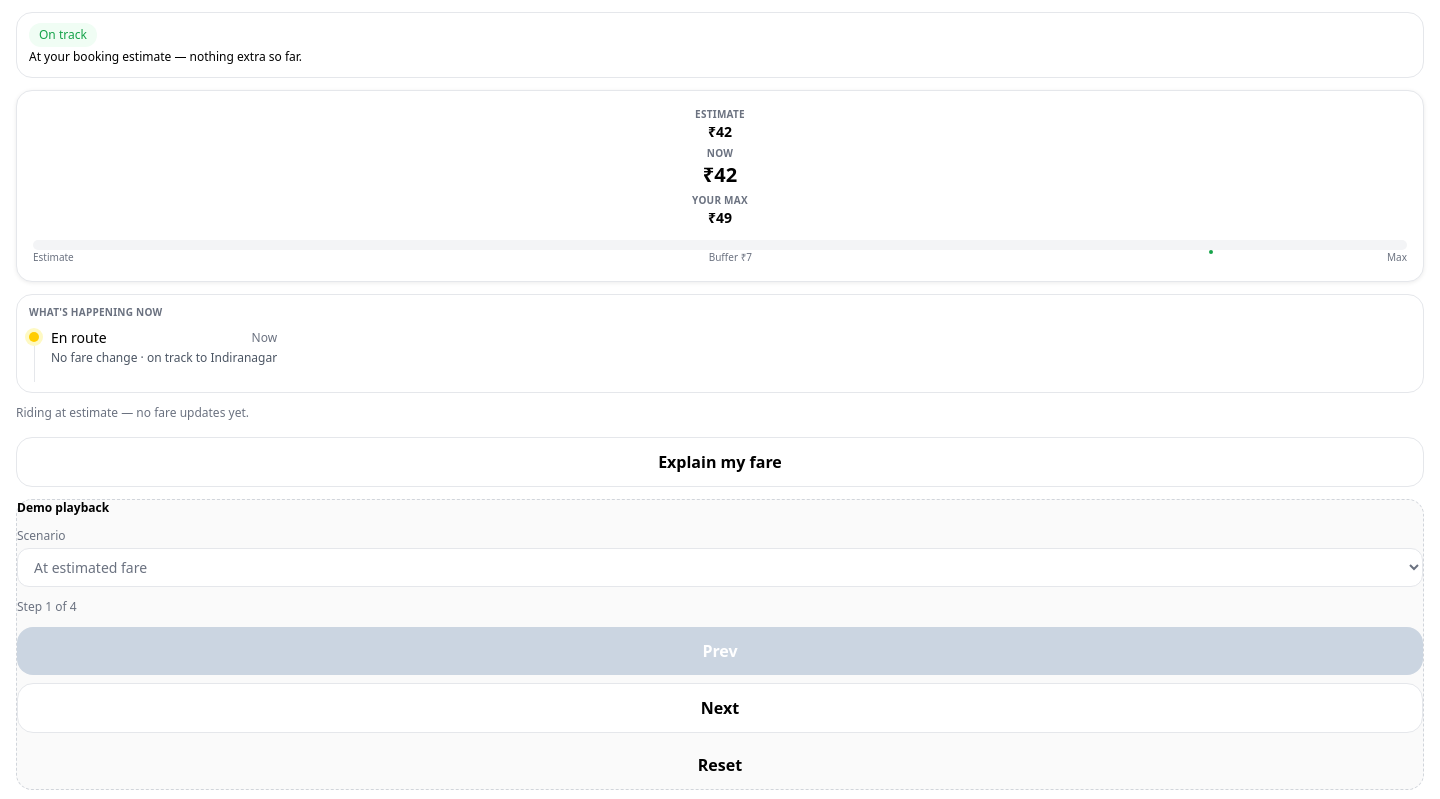
Test case: live ride scenario integration › resets step index when switching scenarios via selector
(page scrolled)
Expected: the element with test id "fare-trust-indicator" is shown, [16,12,1424,78]
Click the button "Next".
click(720, 708)  # box [17,683,1423,733]
(page scrolled)
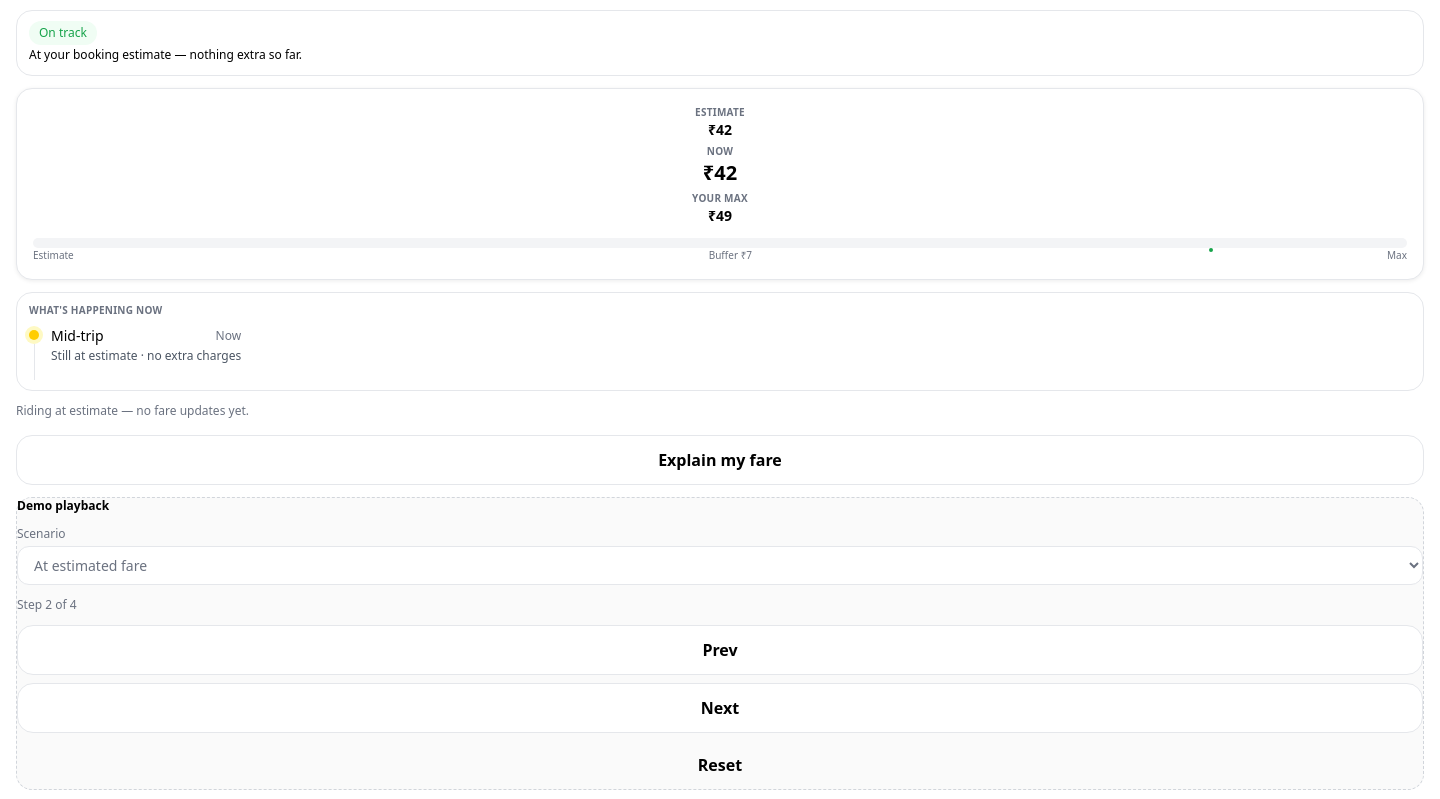
Click the button "Next".
click(720, 708)  # box [17,683,1423,733]
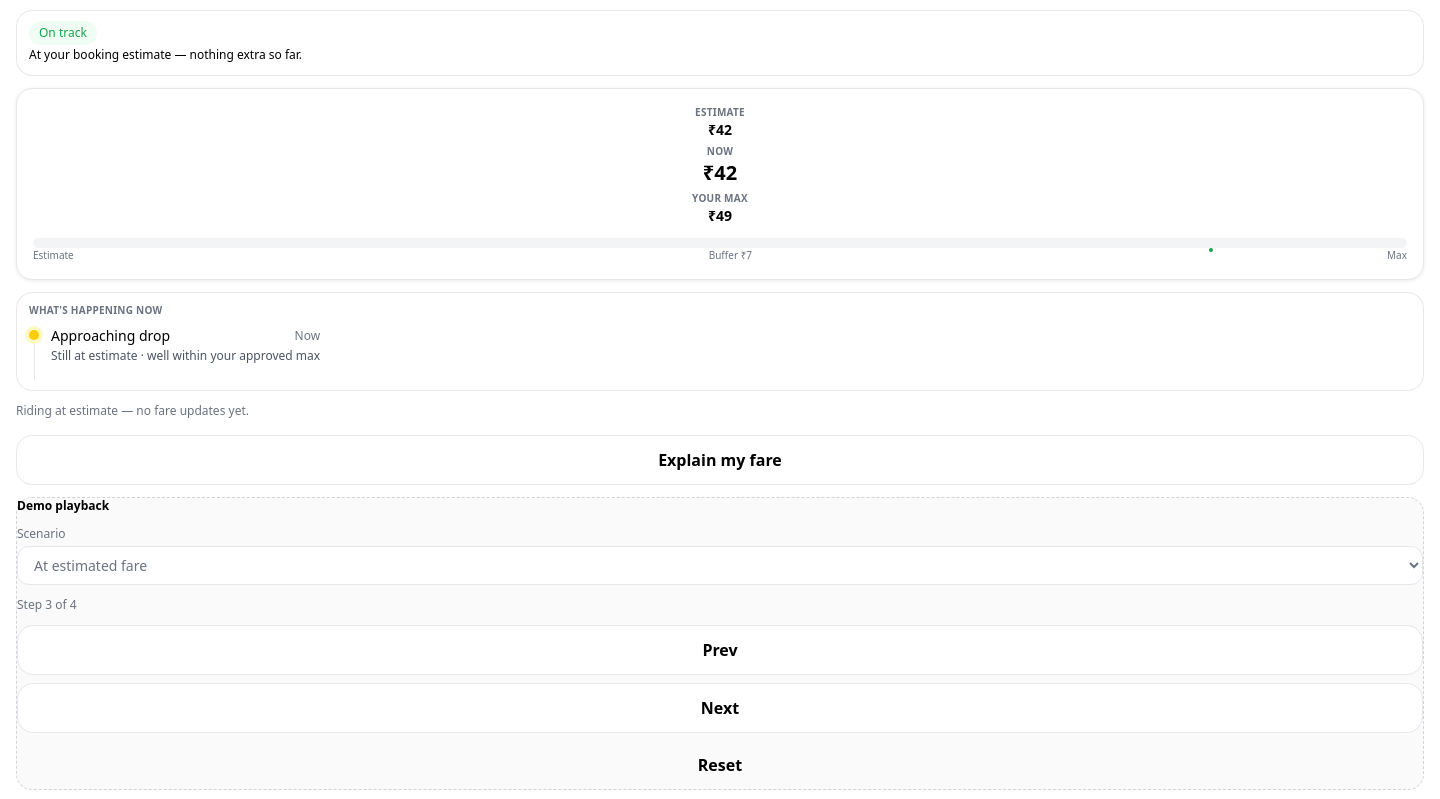
Result: the text "Step 3 of 4" is shown at [17,596,77,613]
Select "Entered buffer zone" in the dropdown with test id "playback-scenario-select" at {"x": 720, "y": 565}, box [17,546,1423,585]
(page scrolled)
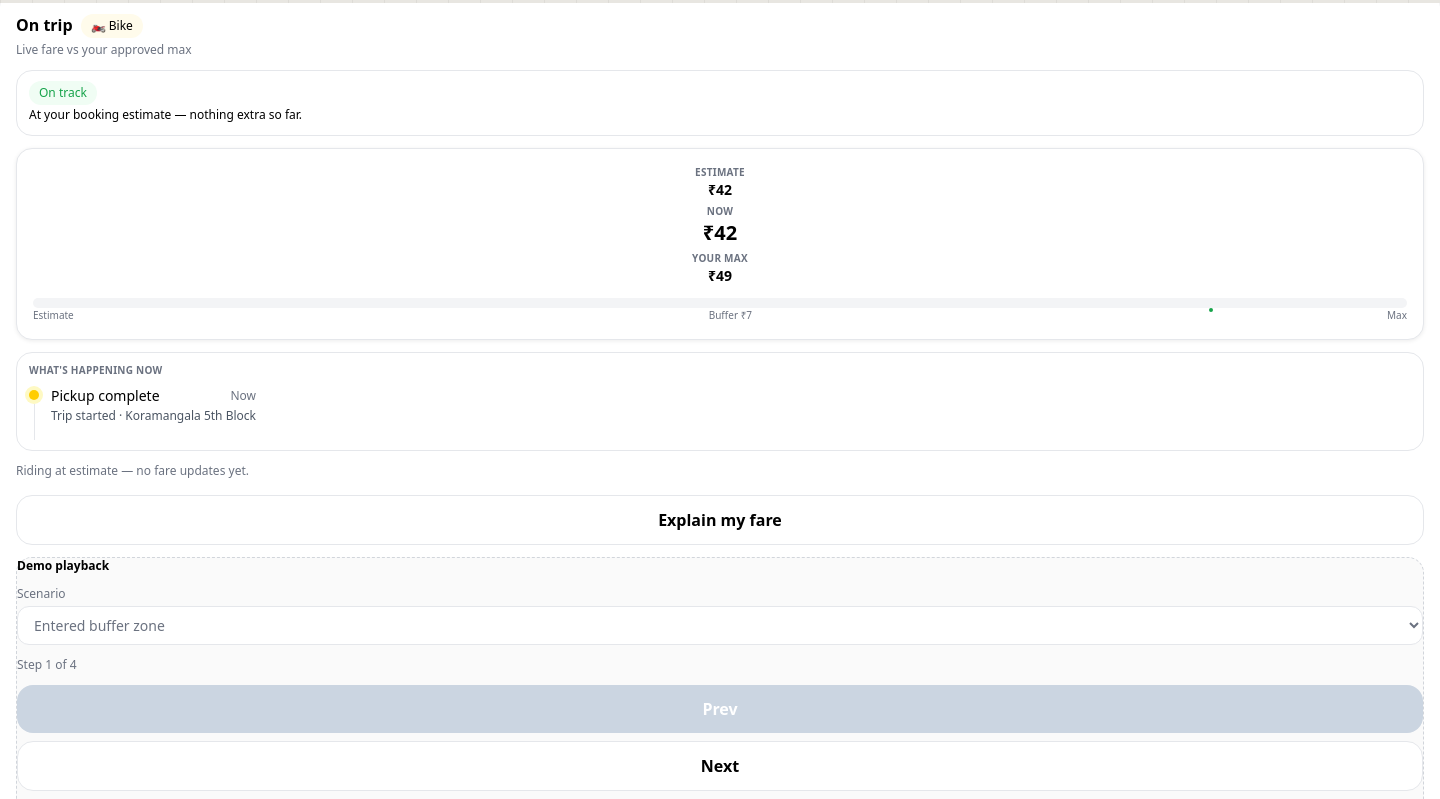
Result: the text "Step 1 of 4" is shown at [17,656,77,673]
